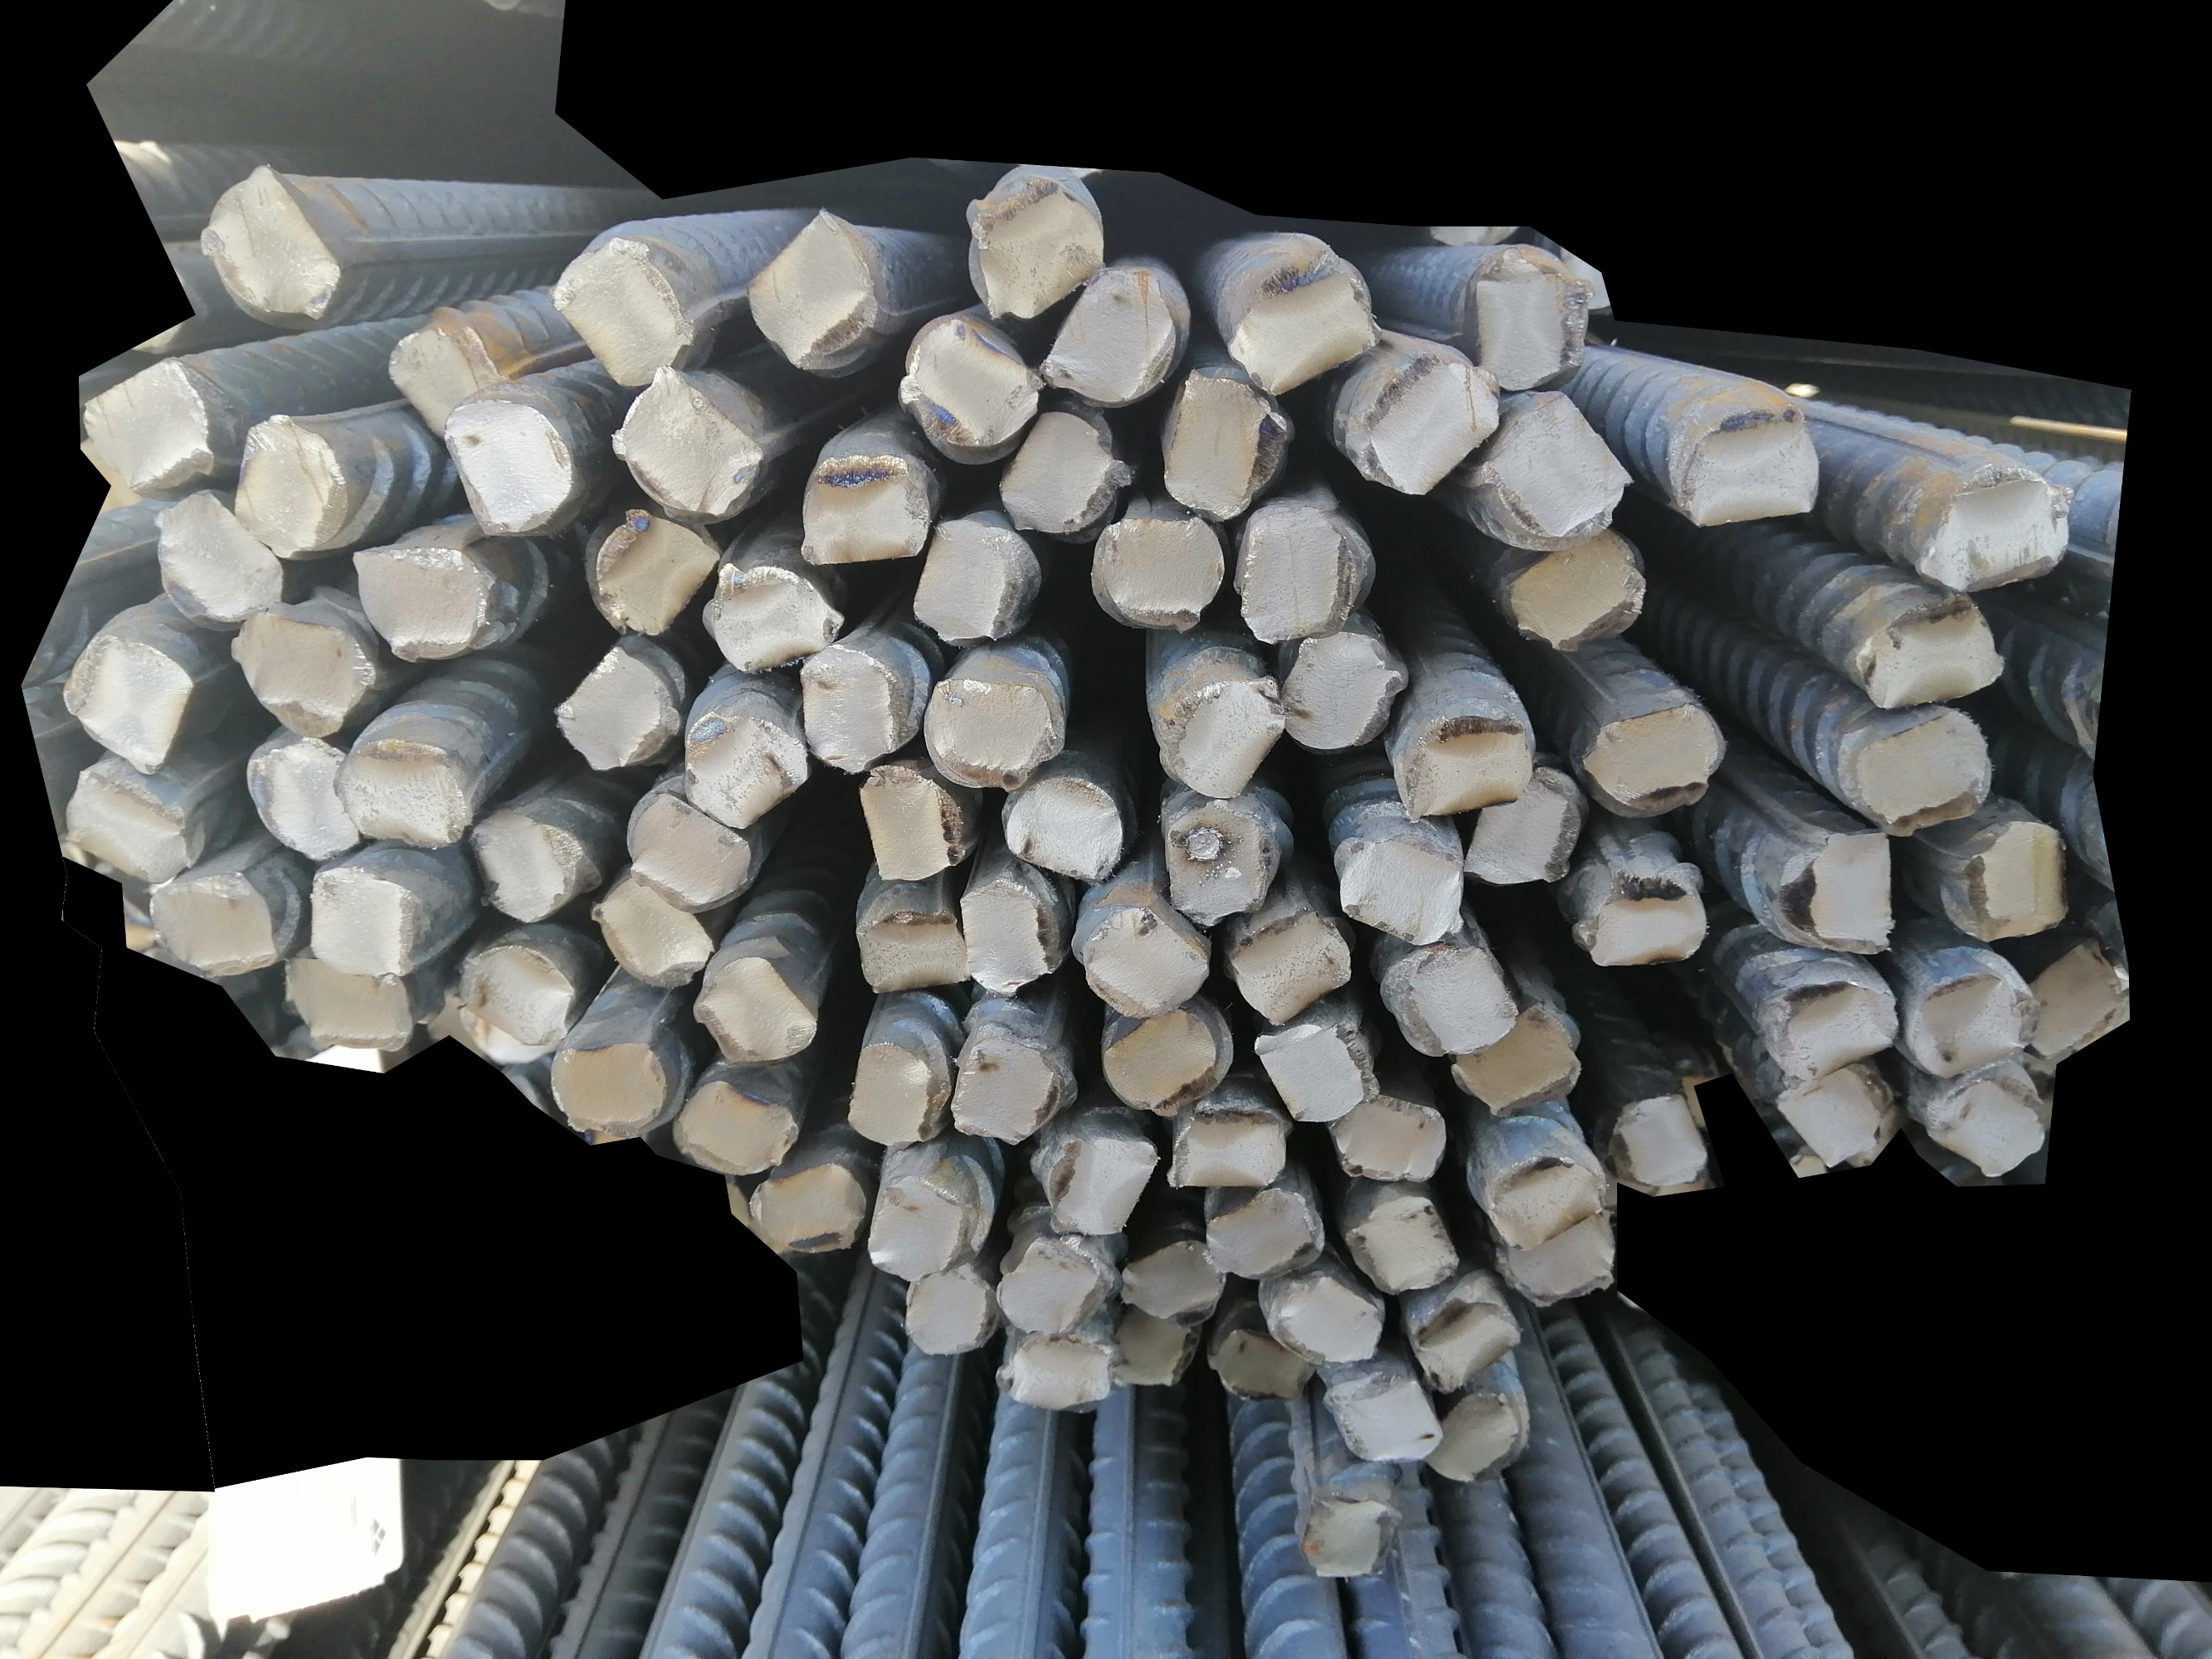rebar: (1335, 338, 1503, 497), (1215, 240, 1386, 392), (1666, 383, 1834, 535), (1902, 455, 2076, 598), (1483, 385, 1633, 551), (887, 303, 1044, 457), (605, 362, 763, 512), (202, 166, 342, 333), (1028, 251, 1184, 401), (957, 169, 1105, 321), (1450, 240, 1597, 394), (1222, 497, 1365, 652), (739, 207, 875, 368), (61, 617, 195, 777), (553, 232, 694, 383), (917, 660, 1069, 800), (443, 389, 580, 542), (1157, 362, 1292, 519), (1848, 587, 2008, 718), (1841, 706, 1999, 836), (227, 605, 378, 739), (82, 349, 214, 502), (987, 404, 1137, 538), (1081, 495, 1231, 627), (1942, 798, 2074, 948), (1508, 528, 1659, 657), (1578, 695, 1729, 823), (1147, 666, 1288, 802), (227, 408, 352, 559), (699, 549, 845, 676), (356, 530, 493, 664), (913, 516, 1048, 652), (153, 490, 286, 627), (586, 502, 723, 634), (324, 734, 476, 854), (1227, 901, 1358, 1037), (1396, 697, 1536, 824), (1267, 629, 1410, 753), (617, 782, 755, 910), (1075, 890, 1208, 1021), (797, 441, 929, 570), (1926, 1053, 2062, 1178), (1783, 817, 1905, 957), (680, 704, 811, 833), (1766, 957, 1900, 1082), (1159, 793, 1283, 929), (1096, 1002, 1234, 1124), (692, 953, 824, 1079), (1333, 828, 1473, 946), (553, 641, 675, 774), (793, 641, 915, 774), (302, 857, 427, 985), (462, 802, 587, 929), (59, 767, 197, 882), (1572, 864, 1713, 976), (1907, 965, 2039, 1084), (1452, 1006, 1586, 1122), (549, 1023, 671, 1150), (1386, 945, 1518, 1061), (279, 951, 424, 1056), (1459, 767, 1581, 889), (143, 864, 275, 976), (953, 870, 1062, 1006), (246, 734, 357, 864), (591, 870, 711, 990), (383, 312, 502, 432), (1774, 1056, 1893, 1176), (453, 931, 575, 1047), (1006, 763, 1123, 885), (947, 1023, 1060, 1148), (1253, 1269, 1384, 1377), (1259, 1018, 1384, 1129), (671, 1070, 802, 1176), (2015, 932, 2120, 1065), (1041, 1119, 1156, 1239), (1325, 1084, 1450, 1194), (859, 756, 966, 885), (1607, 1086, 1720, 1206), (1480, 1150, 1612, 1251), (1199, 1178, 1328, 1279), (1290, 1478, 1403, 1593), (1342, 1190, 1459, 1302), (1325, 1363, 1447, 1469), (849, 894, 973, 999), (1163, 1096, 1290, 1195), (992, 1236, 1112, 1337), (1494, 1209, 1616, 1309), (865, 1178, 973, 1288), (1408, 1293, 1525, 1394), (750, 1162, 868, 1260), (997, 1331, 1123, 1422), (840, 1037, 938, 1152), (1119, 1241, 1231, 1333), (1206, 1316, 1313, 1406), (1433, 1389, 1525, 1492), (908, 1256, 995, 1364), (1105, 1302, 1194, 1394)
